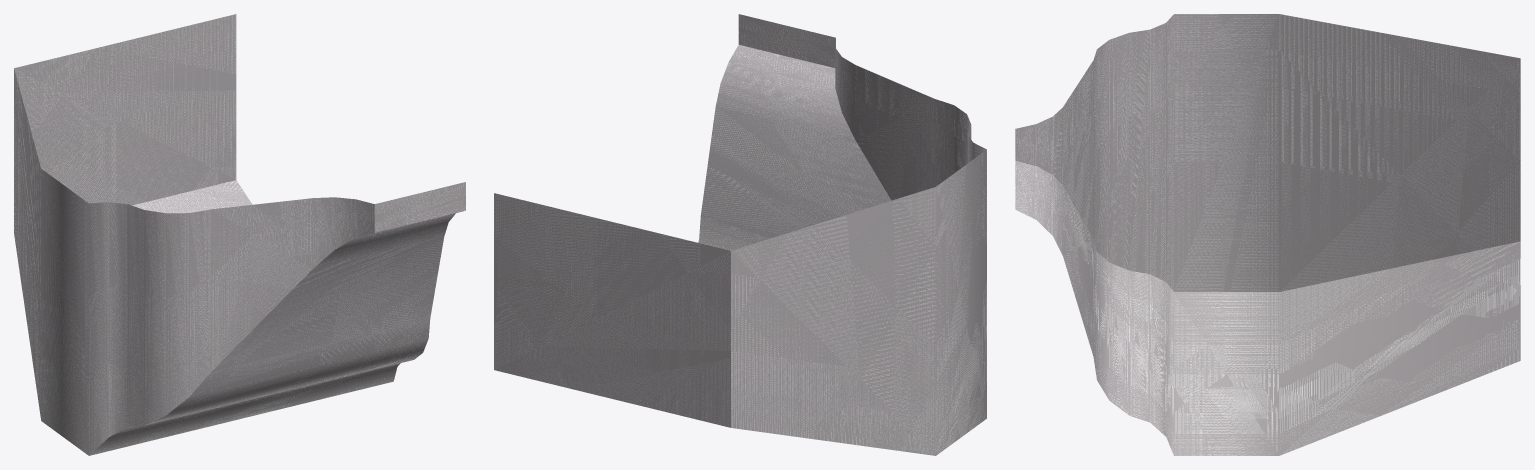
The model's file is original-26.obj.
The picture shows the model from 3 angles, left to right: view 1: azimuth 30°, elevation 25°; view 2: azimuth 150°, elevation 25°; view 3: azimuth 270°, elevation 25°; orthographic projection. The views are drawn at different scales.
Visible parts, largest first — view 1: DF_12_BL1/DF_12_BL/mesh19/mesh19-geometry#mesh19-geometry; view 2: DF_12_BL1/DF_12_BL/mesh19/mesh19-geometry#mesh19-geometry; view 3: DF_12_BL1/DF_12_BL/mesh19/mesh19-geometry#mesh19-geometry.
Boxes of the visible parts, x1,y1,x2,y2 form: DF_12_BL1/DF_12_BL/mesh19/mesh19-geometry#mesh19-geometry: (14,14,465,455); DF_12_BL1/DF_12_BL/mesh19/mesh19-geometry#mesh19-geometry: (494,14,986,455); DF_12_BL1/DF_12_BL/mesh19/mesh19-geometry#mesh19-geometry: (1015,14,1520,455).
Bounding box in the file's own units: 0.0218 × 0.0172 × 0.0284.
